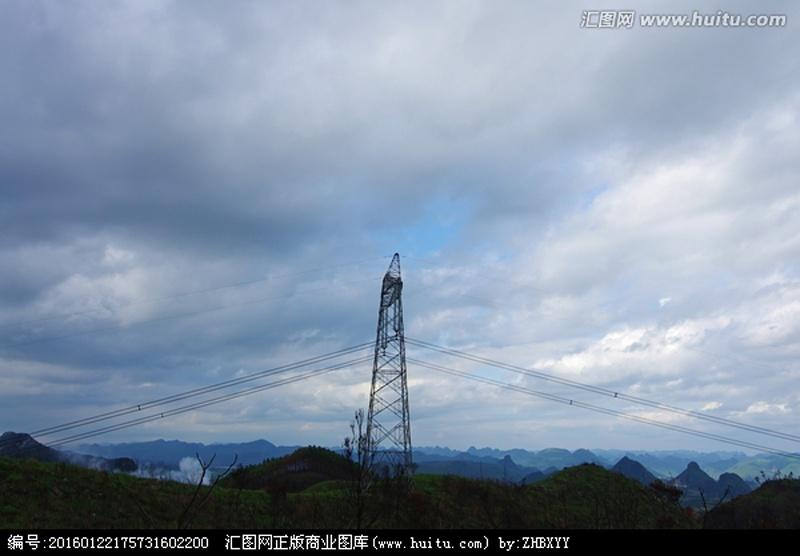power_tower: (364, 252, 421, 470)
